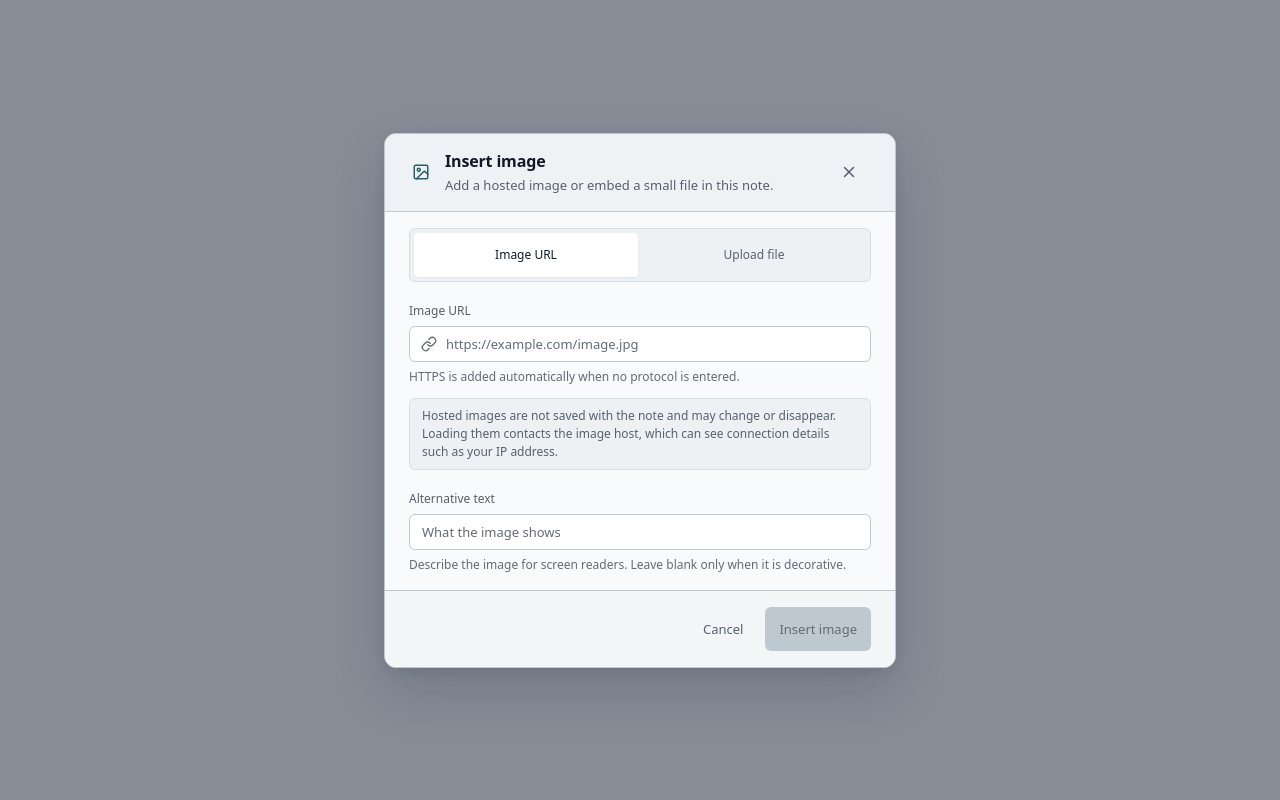
it: ImageUploadModal › rejects executable URL schemes instead of rewriting them into a link
The width and height of the screenshot is (1280, 800).
Type "javascript:alert(1)" into the field labelled "Image URL".
click(640, 344); type("javascript:alert(1)")  # box [409,326,871,362]
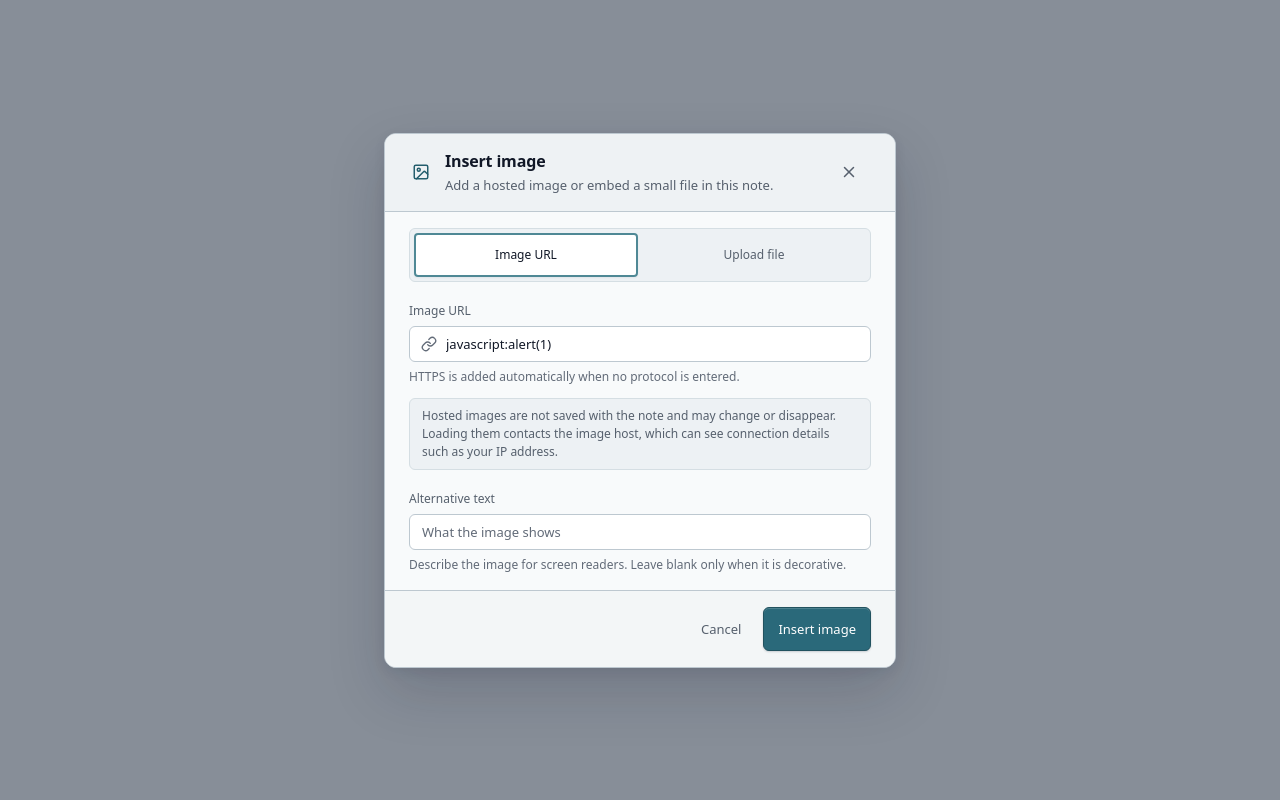
Click the button "Insert image".
click(817, 628)  # box [763,606,871,650]
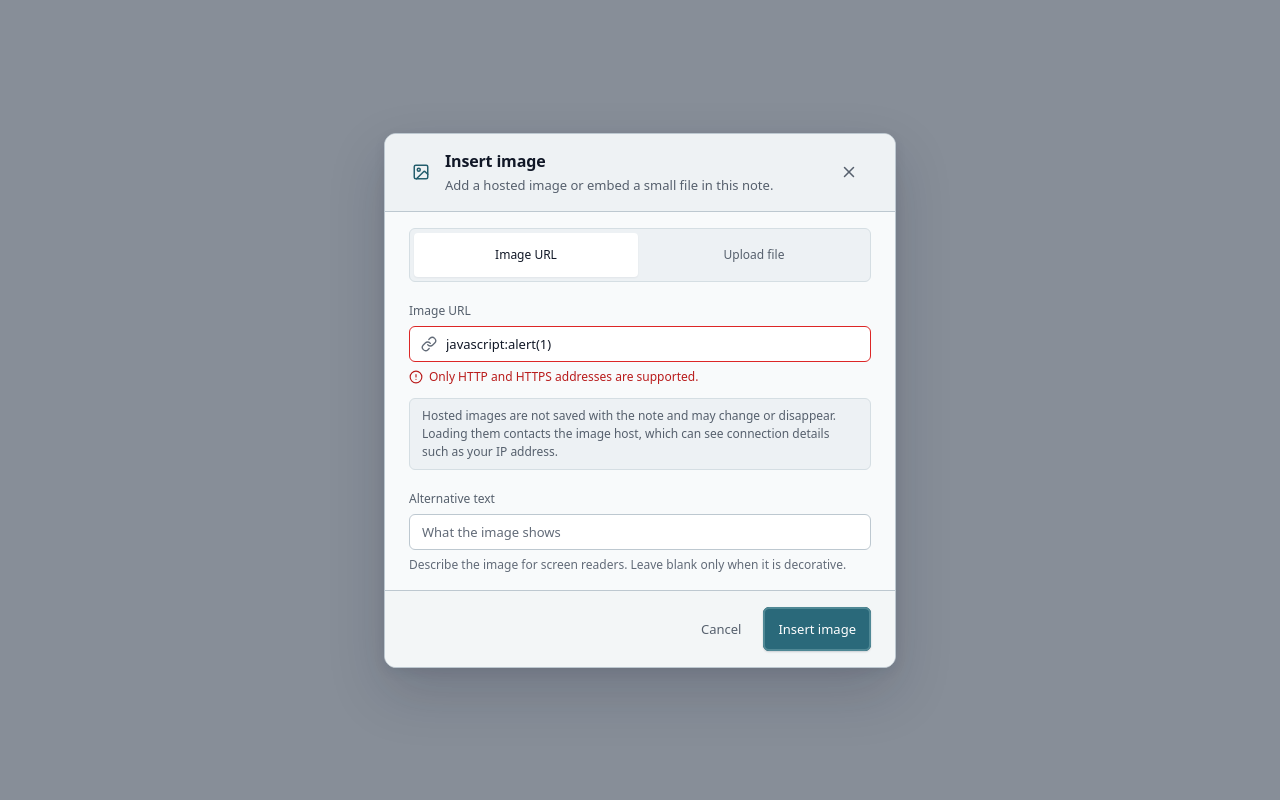
Check: the message shows "Only HTTP and HTTPS", box [429,368,698,384]
